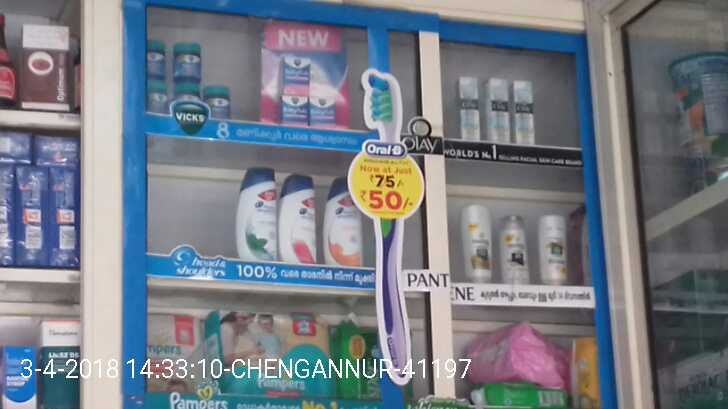vicks: (146, 35, 231, 121), (280, 54, 335, 125)
